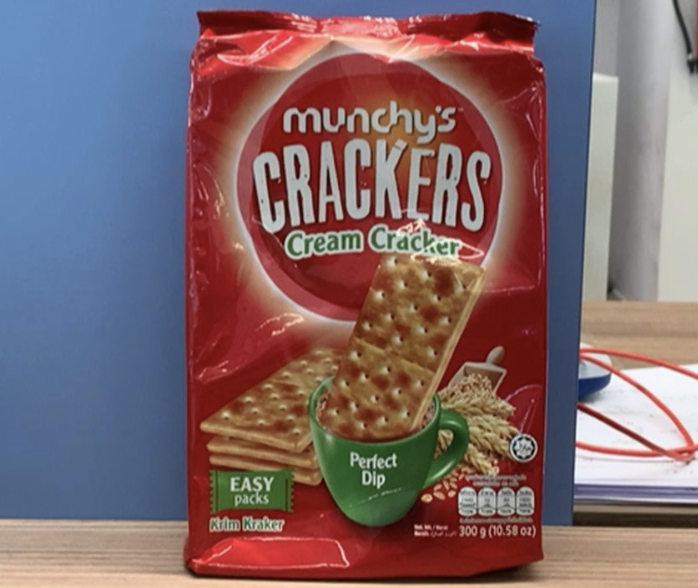crackers_450g: (200, 57, 542, 543)
